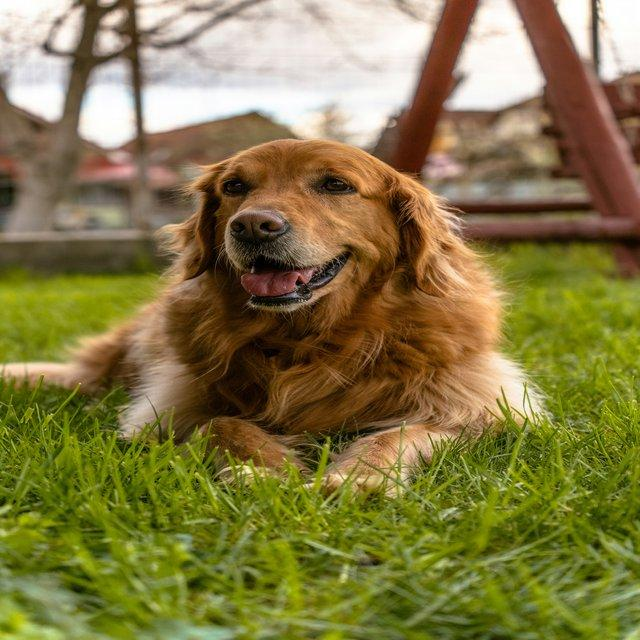retriever: (0, 135, 553, 504)
